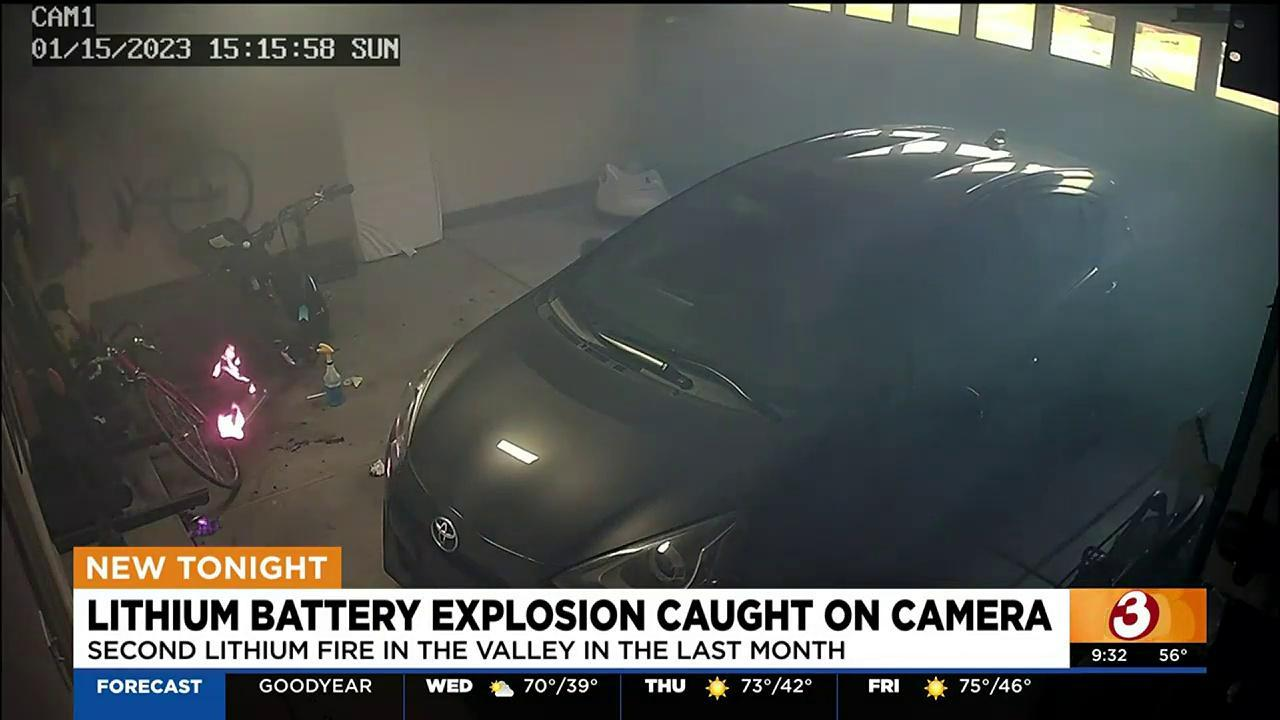fire: (128, 322, 321, 482)
